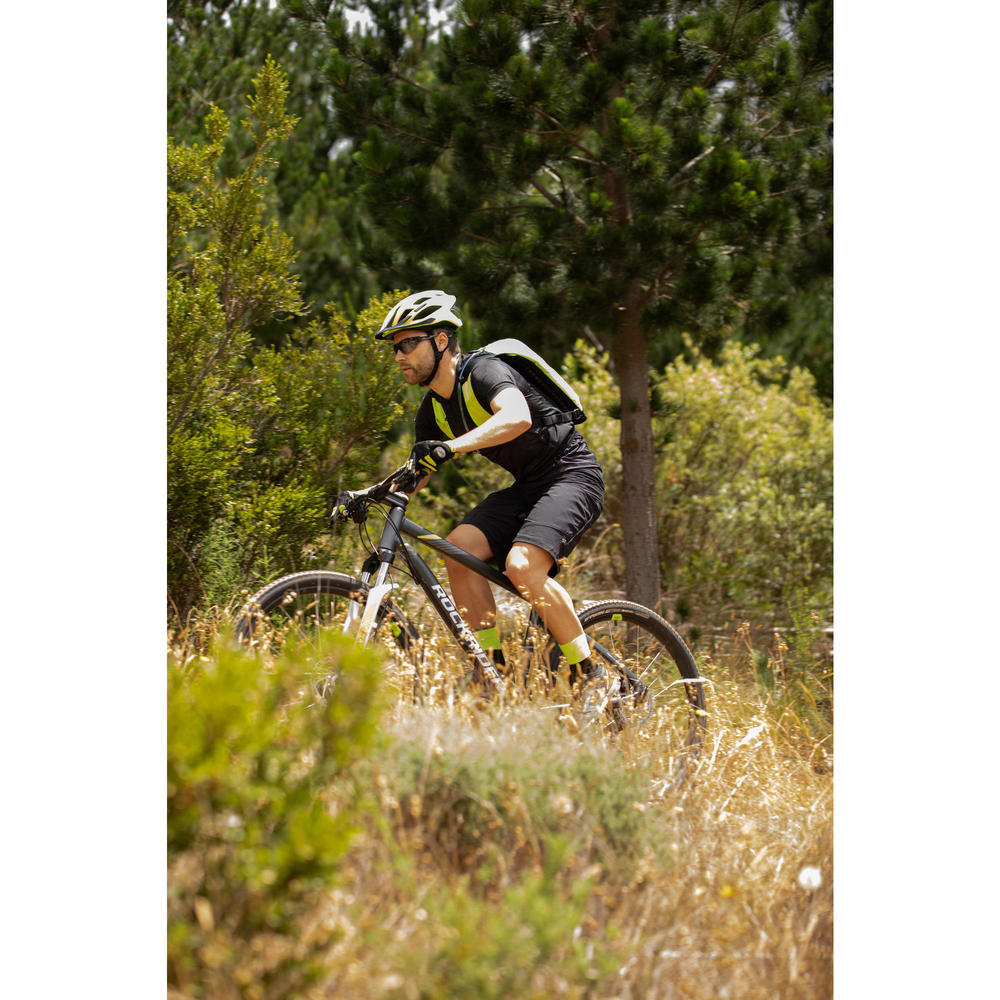MountainBike: (218, 445, 712, 786)
